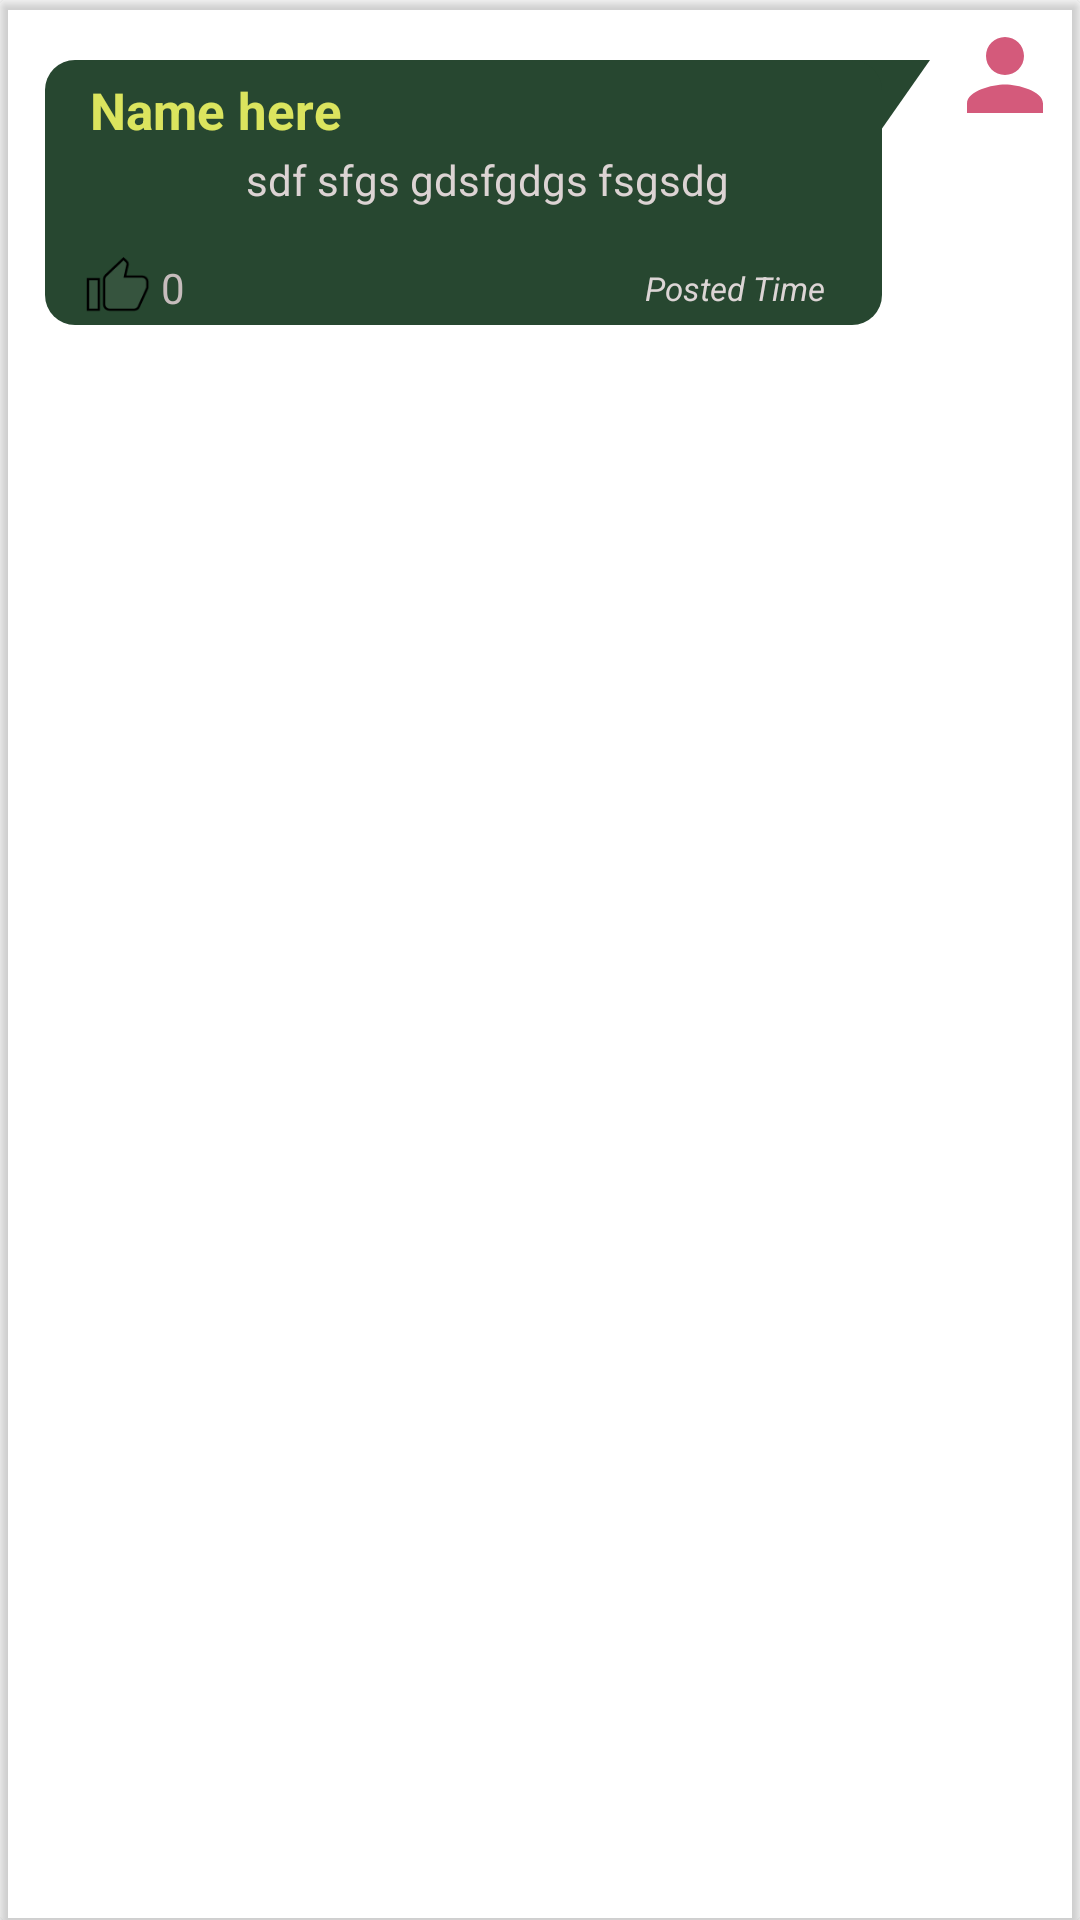

Point at icon controls on the screen. Image size 1080 x 1920, points as [x,y].
person: [1023,57]
